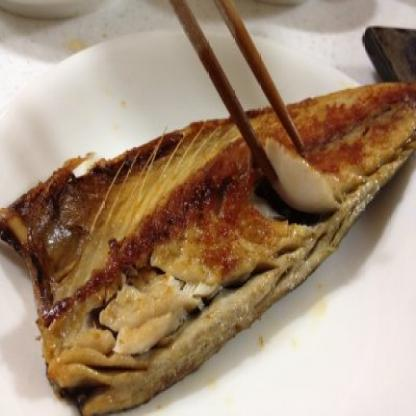Peixe: (0, 71, 416, 412)
